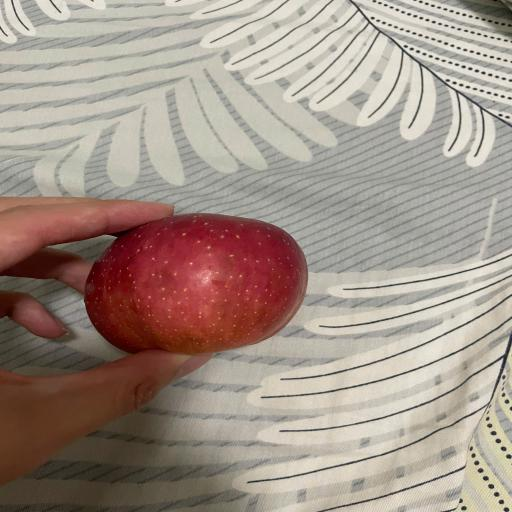apple: (85, 213, 307, 355)
